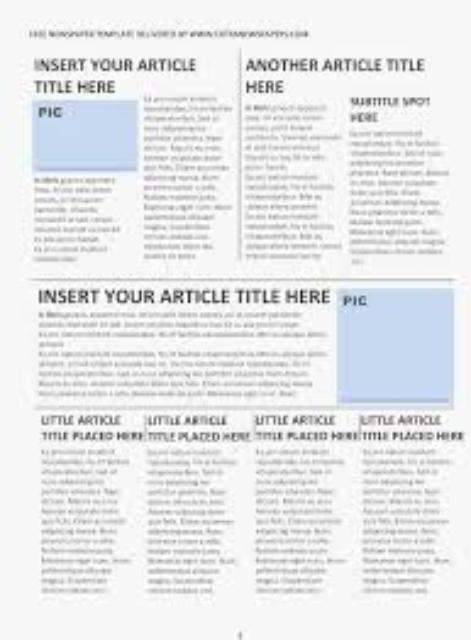cardboard paper: (21, 25, 460, 611)
